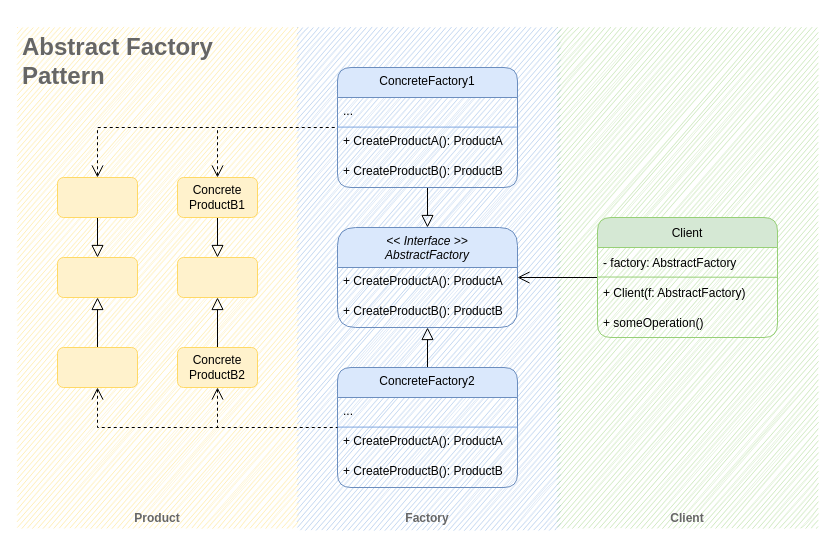
Some shapes in this 834 by 544 pixel diagram are drawn without their labels. Here are the shapes that lost their labels. From the top down, the centre of each, then its label:
the point at 97,197: Concrete ProductA1
the point at 97,277: Abstract ProductA
the point at 217,277: Abstract ProductB
the point at 97,367: Concrete ProductA2
